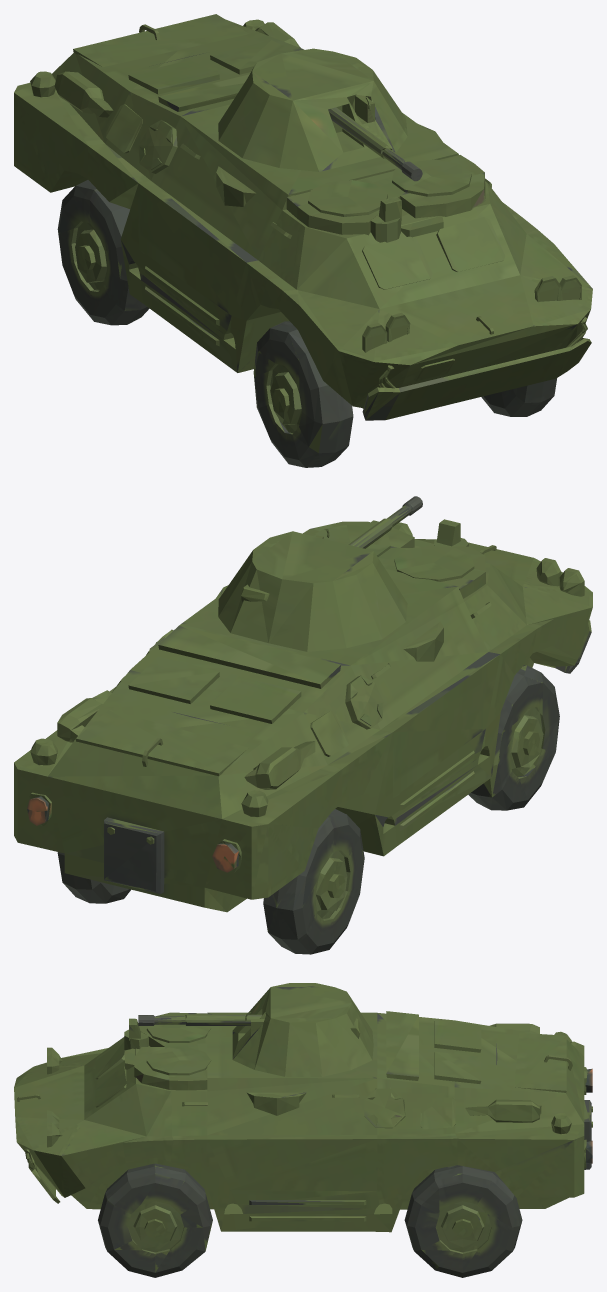
File: golan73_syrian_recon_0.glb
3 renders of one model, top to bottom at view 1: azimuth 30°, elevation 25°; view 2: azimuth 150°, elevation 25°; view 3: azimuth 270°, elevation 25°, orthographic. The views are drawn at different scales.
Parts seen in each view (by area): view 1: geometry_0; view 2: geometry_0; view 3: geometry_0.
Part boxes in pixels (left/top/right/bottom): geometry_0: left=14, top=14, right=592, bottom=467; geometry_0: left=14, top=496, right=592, bottom=954; geometry_0: left=14, top=983, right=592, bottom=1277.
Bounding box in the file's own units: 0.3815 × 0.414 × 0.9357.
Materials: 1 (1 with a texture image).
